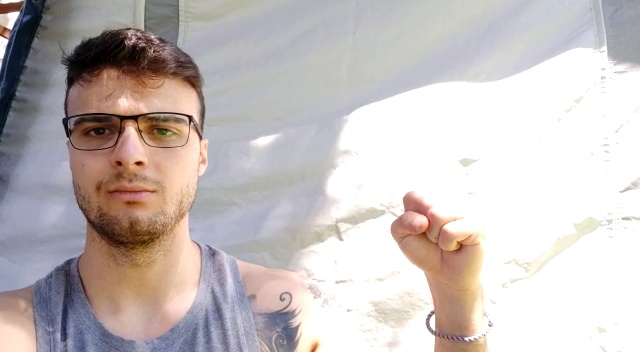Fist: (384, 182, 496, 291)
